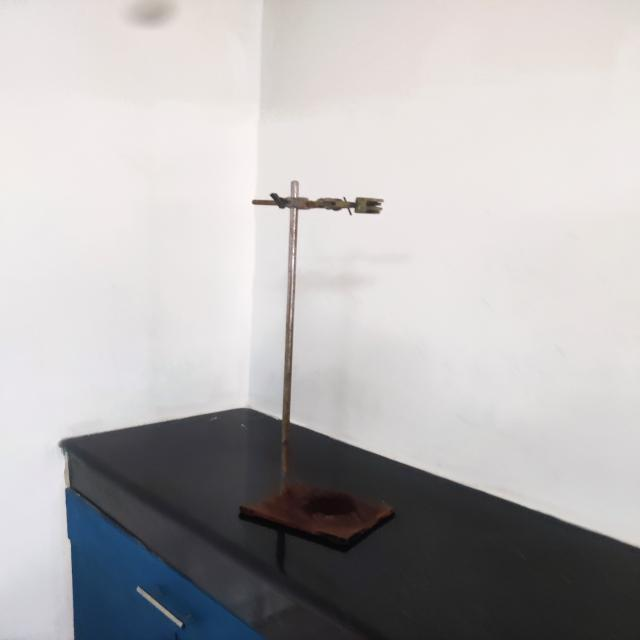Burette_Stands: (213, 162, 431, 574)
